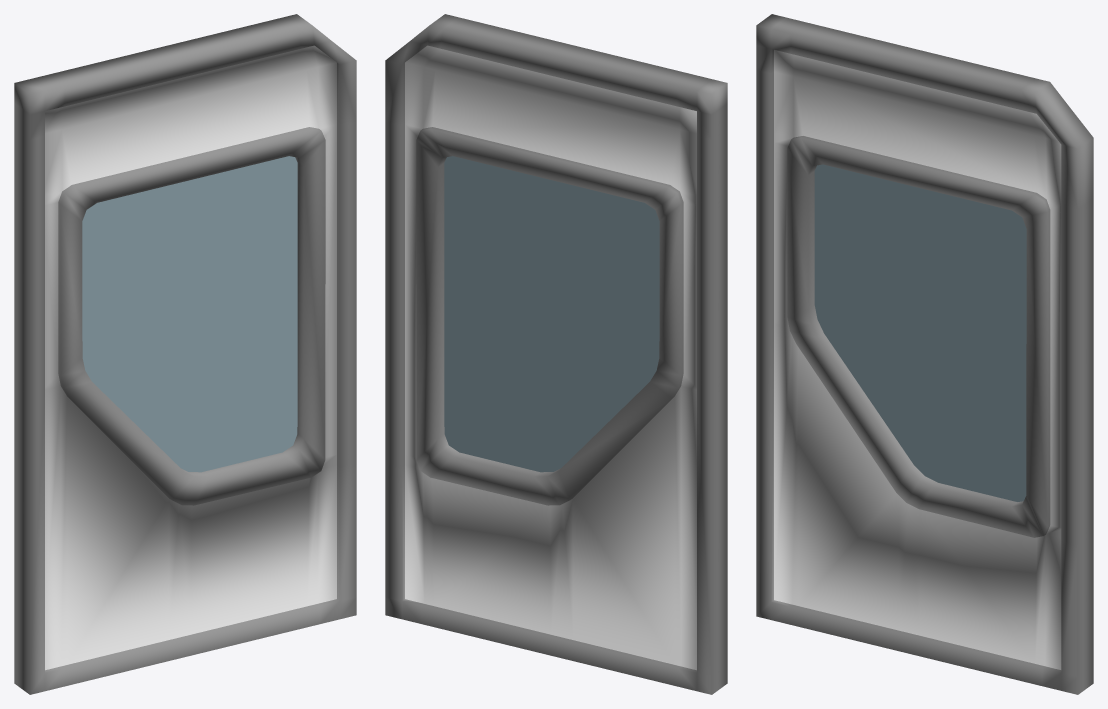
Rendered from DoorDefault_L.fbx.
3 views of the same model, side by side, from view 1: azimuth 30°, elevation 25°; view 2: azimuth 150°, elevation 25°; view 3: azimuth 330°, elevation 25° (orthographic).
Visible parts, largest first — view 1: DoorDefault_L; view 2: DoorDefault_L; view 3: DoorDefault_L.
Part boxes in pixels (x1,y1,x2,y2): DoorDefault_L: [14, 14, 356, 694]; DoorDefault_L: [385, 14, 727, 694]; DoorDefault_L: [756, 14, 1093, 694].
Size of the model in its own units: 135 by 237 by 11.21.
